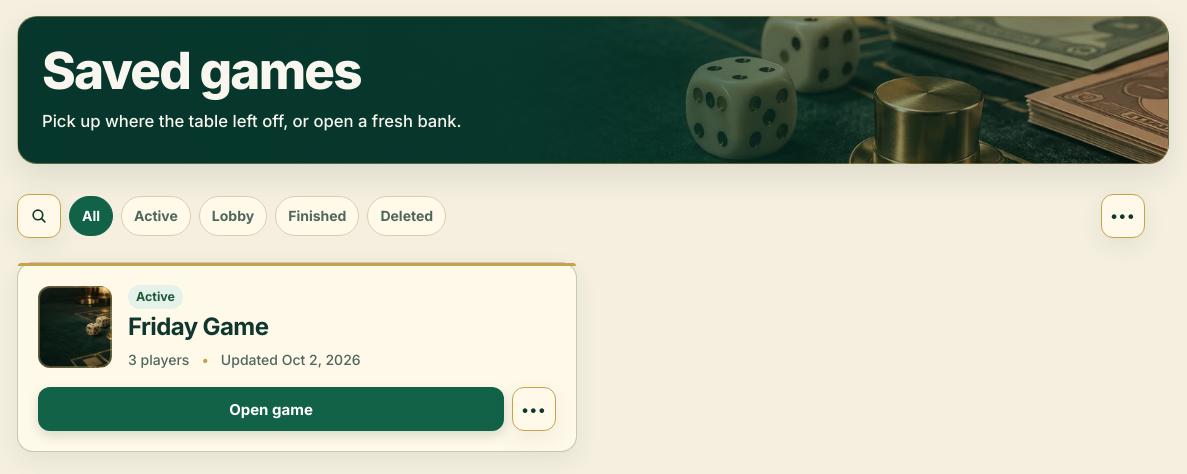
Test case: SavedGamesPage deleted games › keeps deleted games out of the normal list and offers them under Deleted
expect the heading "Friday Game" is shown: met, box [128,312,268,341]
expect the text "Old Table" is not shown: met
Click the radio button labelled "Deleted".
click(407, 216)  # box [367,196,446,236]
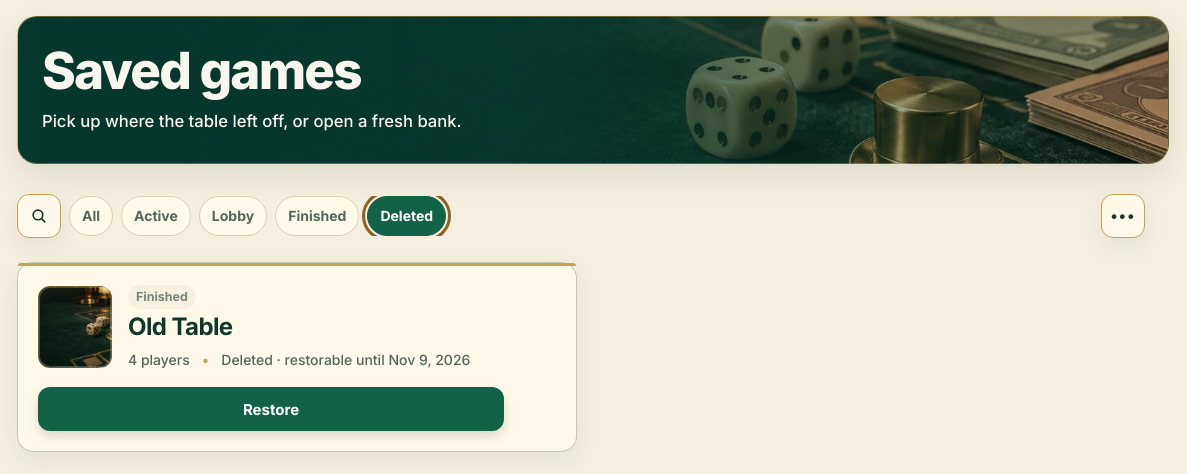
expect the heading "Old Table" is shown: met, box [128,312,232,341]
expect the text "Finished" is shown: met, box [128,285,196,309]
expect the text "Deleted · restorable until Nov 9, 2026" is shown: met, box [202,350,470,371]
